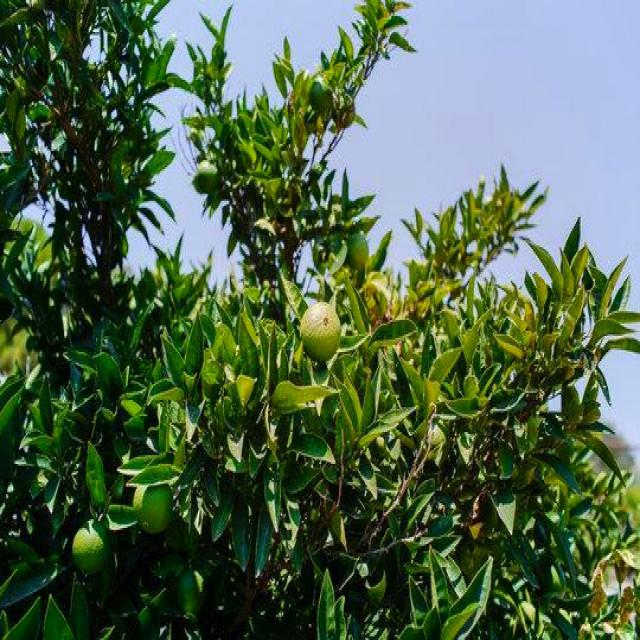Jeruk Belum Matang: (303, 304, 342, 361), (134, 484, 174, 534), (75, 521, 109, 576), (179, 568, 205, 612), (310, 80, 332, 112)
